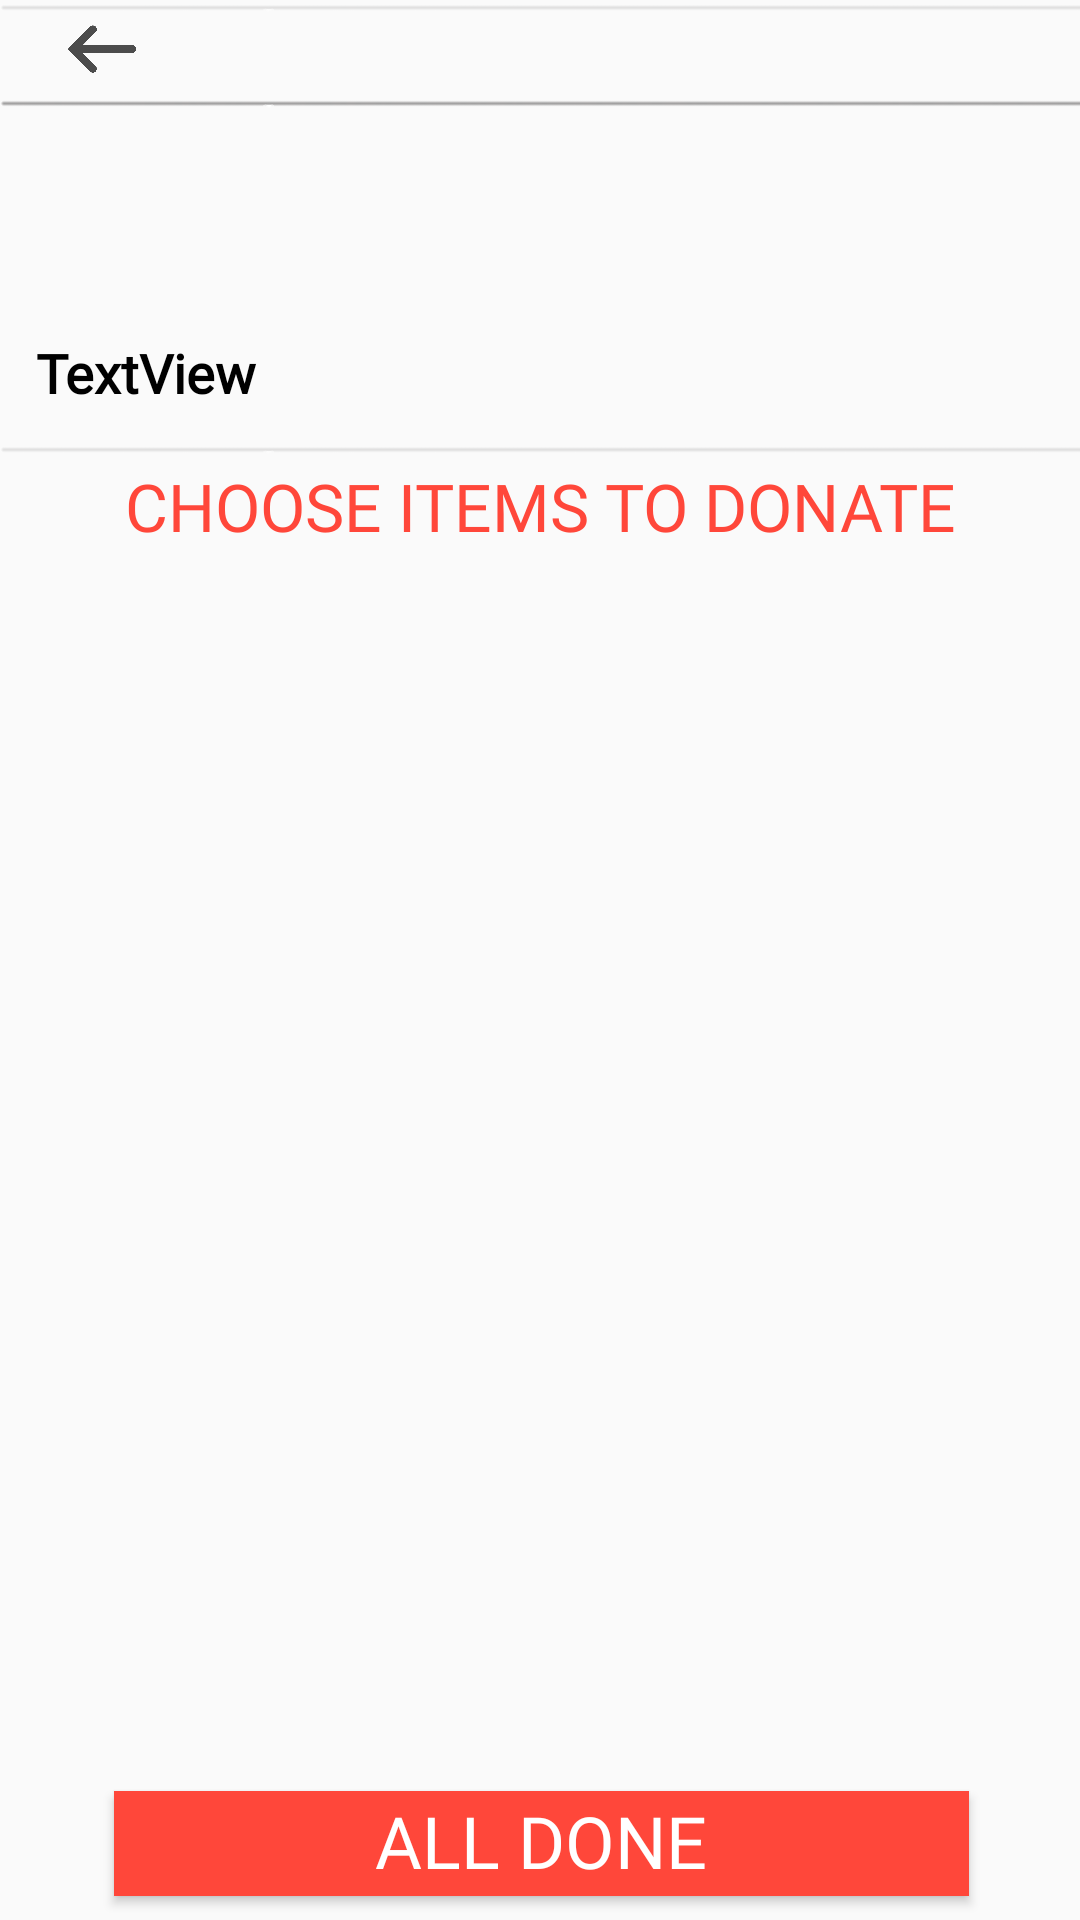

Where icons sit on this 1080px×1920px app screen, as (x1, y1, x2, y2):
backicon: (68, 25, 136, 73)
